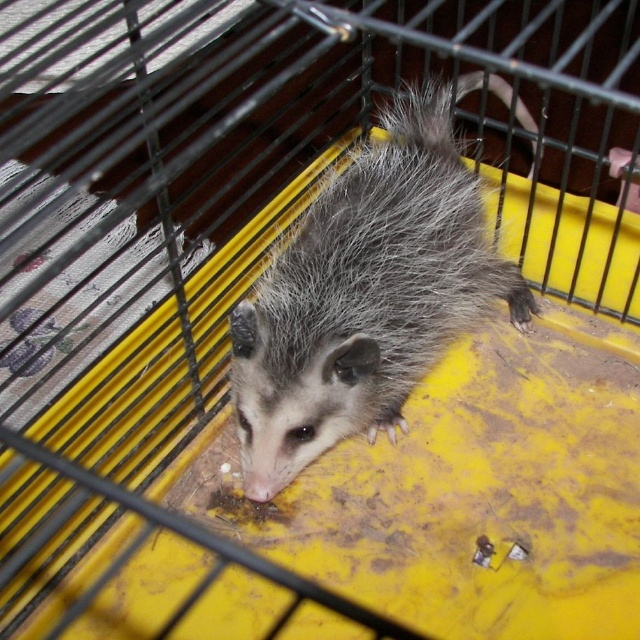Hedgehog: (229, 64, 545, 501)
